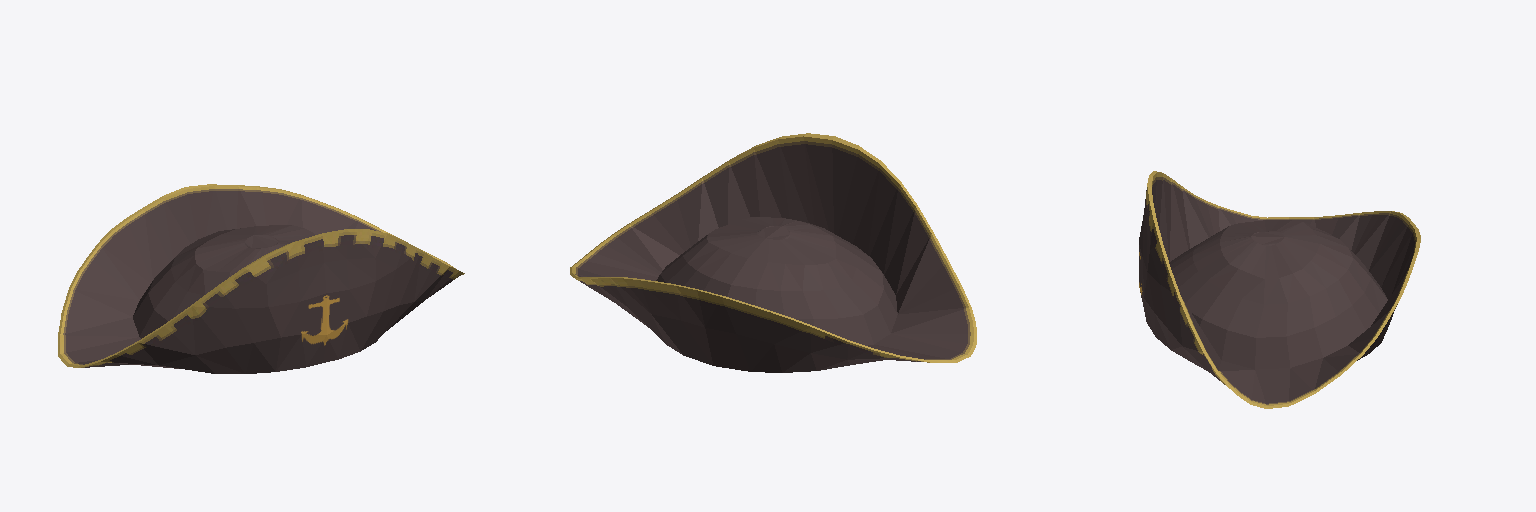
3 renders of one model, left to right at view 1: azimuth 30°, elevation 25°; view 2: azimuth 150°, elevation 25°; view 3: azimuth 270°, elevation 25°, orthographic.
Parts seen in each view (by area): view 1: hat; view 2: hat; view 3: hat.
Part boxes in pixels (x1,y1,x2,y2): hat: (58, 184, 464, 373); hat: (570, 133, 976, 372); hat: (1139, 171, 1420, 408).
Bounding box in the file's own units: 132 × 45.77 × 82.28.
1 materials, 1 textured.